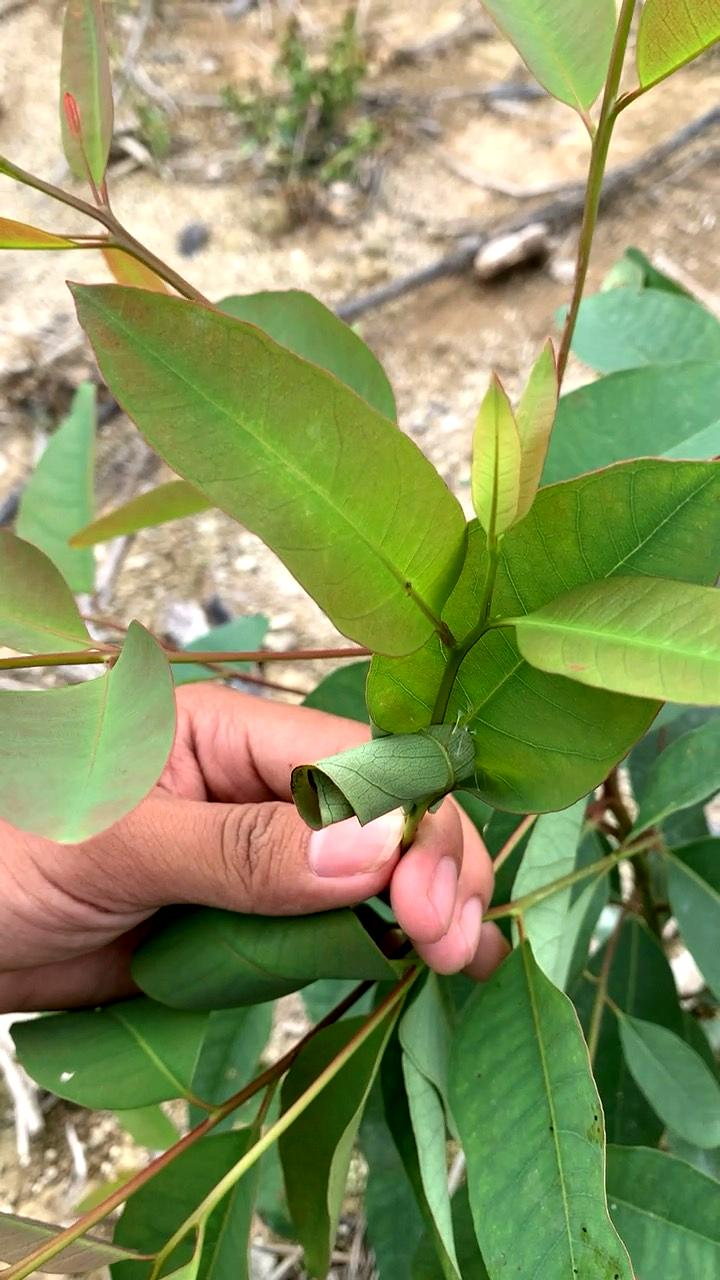Leaf Roller - Leaf: (263, 680, 505, 886)
